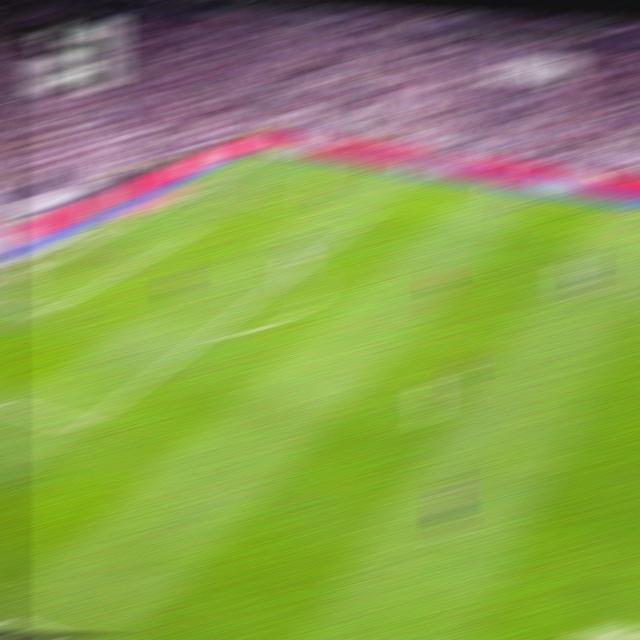bigarea_bottom_inner: (71, 416, 96, 436)
bigarea_top_inner: (351, 212, 372, 225)
bottom_arc_area_intersection: (195, 326, 220, 342)
corner: (257, 148, 282, 157)
smallarea_top_inner: (178, 230, 197, 237)
top_arc_area_intersection: (290, 260, 311, 269)
